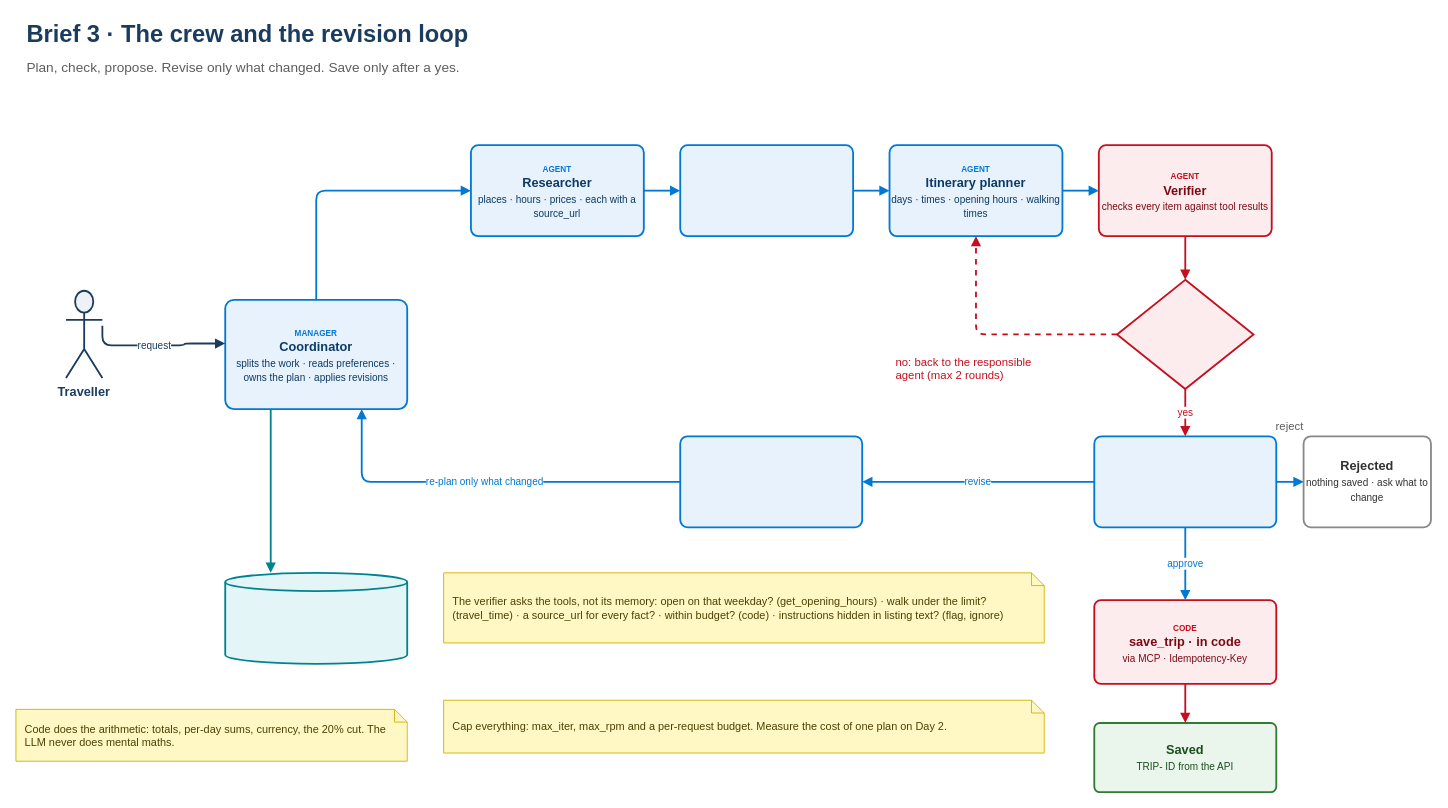
The diagram is 1448 pixels wide and 808 high, and some of its shapes have lost their labels. The box of each missing label's shape, as (x1, y1, x2, y2) in pixels:
AGENT Budget analyst costs · FX · day and trip totals (in code): (679, 144, 854, 237)
All checks pass?: (1116, 278, 1254, 389)
Plan state the current Itinerary · kept per session: (224, 571, 408, 664)
Proposed plan pending_action: save_trip · itinerary + sources: (1093, 435, 1277, 528)
Targeted revision “make day 2 cheaper” → re-plan day 2 only: (679, 435, 863, 528)
